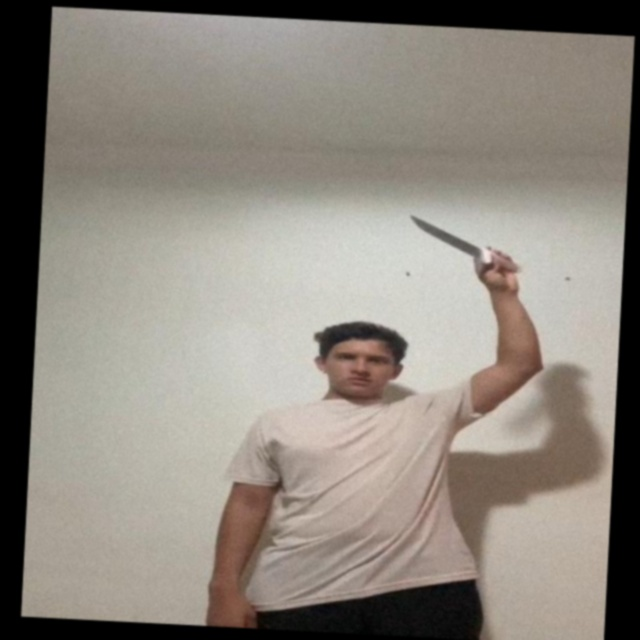Sharp-Object: (409, 216, 482, 256)
